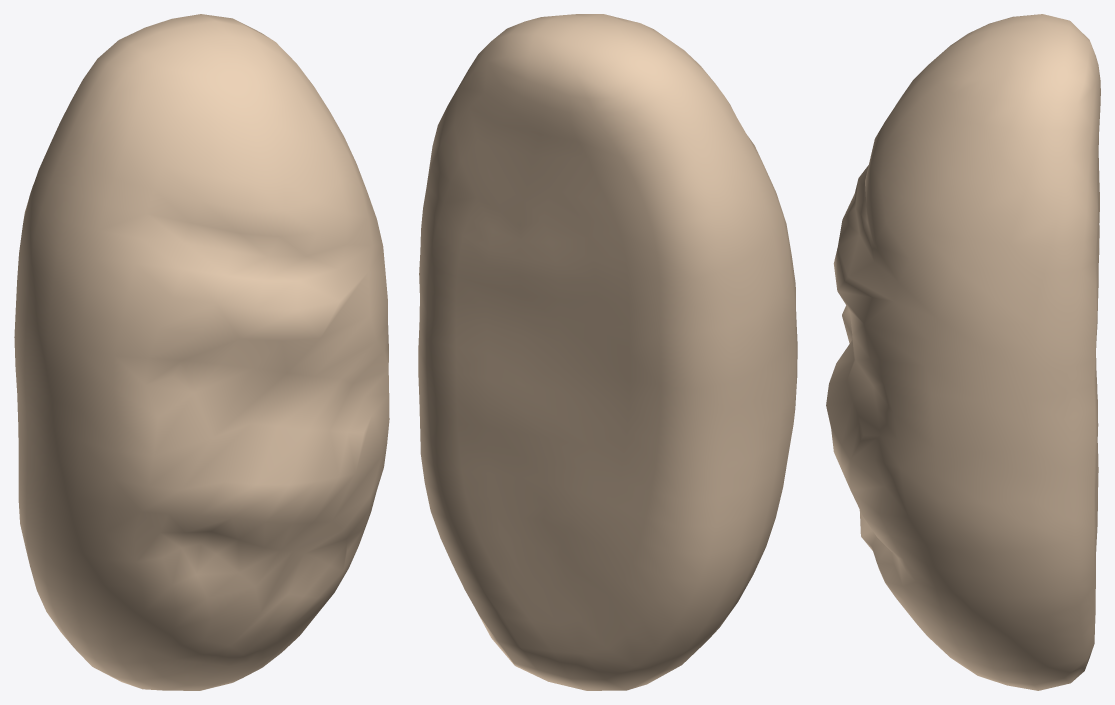
File: MeshGrainbreadCMesh_0.obj
3 views of the same model, side by side, from view 1: azimuth 30°, elevation 25°; view 2: azimuth 150°, elevation 25°; view 3: azimuth 270°, elevation 25° (orthographic).
Visible parts, largest first — view 1: GrainbreadCMesh; view 2: GrainbreadCMesh; view 3: GrainbreadCMesh.
Part boxes in pixels (<box>): GrainbreadCMesh: <box>14,14,389,690</box>; GrainbreadCMesh: <box>418,14,797,690</box>; GrainbreadCMesh: <box>826,14,1100,690</box>.
Size of the model in its own units: 0.1563 by 0.2929 by 0.1138.
